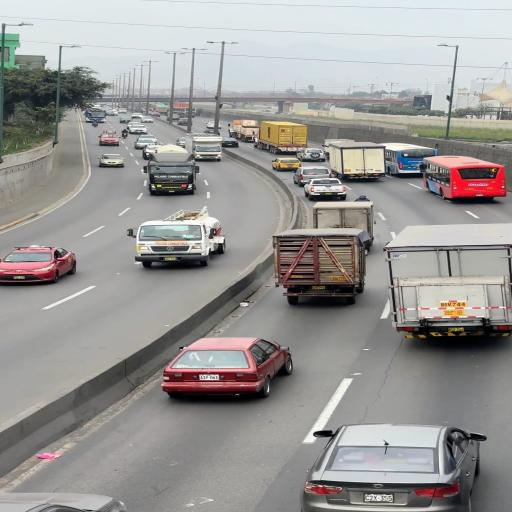auto: (321, 424, 471, 508), (161, 337, 290, 398), (0, 245, 76, 283), (2, 491, 128, 512), (304, 182, 348, 202), (293, 165, 331, 186), (142, 143, 168, 160), (270, 157, 300, 171), (97, 154, 125, 168)
bus: (390, 231, 510, 336), (272, 231, 366, 297), (130, 209, 226, 265), (141, 145, 199, 193), (310, 200, 374, 242), (324, 140, 386, 181), (256, 120, 308, 154), (182, 133, 225, 161), (229, 120, 260, 144), (323, 138, 355, 154), (170, 103, 196, 117), (85, 114, 106, 123), (119, 114, 132, 123)
moto: (430, 160, 502, 200), (377, 142, 438, 177)
